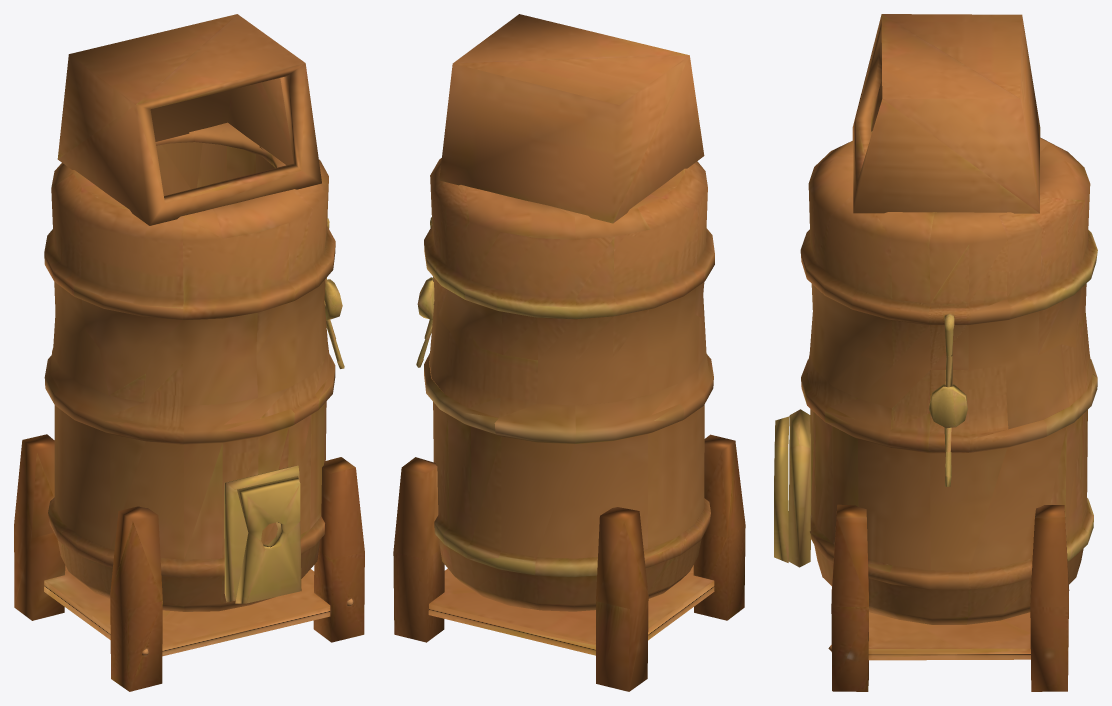
Rendered from hopper-composter.glb.
3 views of the same model, side by side, from view 1: azimuth 30°, elevation 25°; view 2: azimuth 150°, elevation 25°; view 3: azimuth 270°, elevation 25° (orthographic). The views are drawn at different scales.
Parts seen in each view (by area): view 1: hopper-composter; view 2: hopper-composter; view 3: hopper-composter.
Boxes of the visible parts, x1,y1,x2,y2 form: hopper-composter: (14,14,364,691); hopper-composter: (393,14,745,691); hopper-composter: (774,14,1097,691).
Size of the model in its own units: 0.6776 by 1.3 by 0.663.
Materials: 1 (1 with a texture image).
